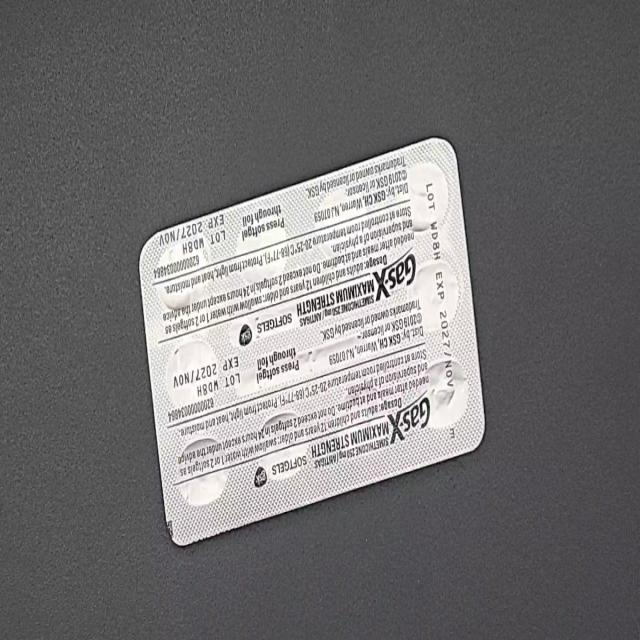no defect: (13, 26, 36, 62)
